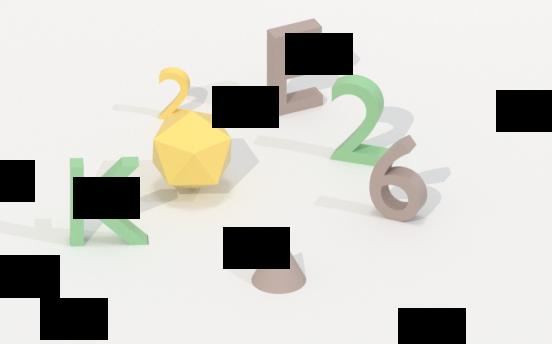2: (330, 72, 387, 161), (153, 64, 199, 122)
6: (369, 135, 432, 223)
E-hoa: (260, 18, 327, 119)
dagiac: (147, 111, 238, 192)
k: (63, 152, 154, 256)
non: (248, 232, 311, 296), (329, 125, 385, 169)
